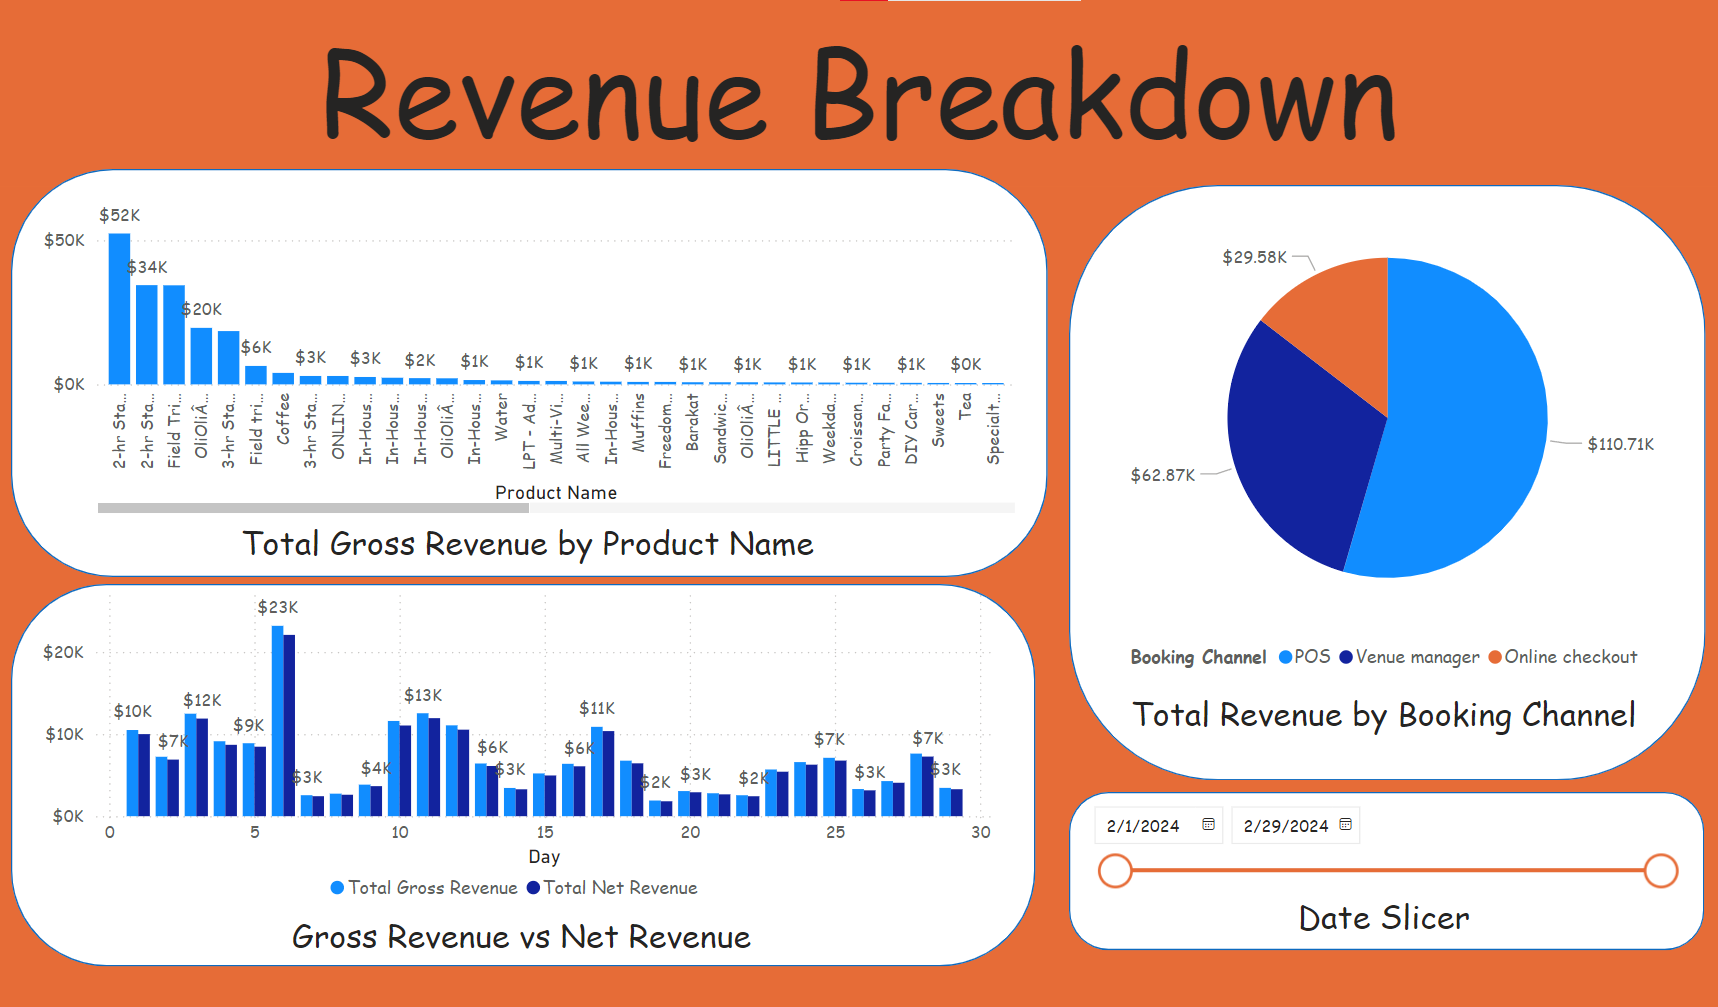

The page's visual inventory and layout, read from the dashboard file:
{"tool":"powerbi","page":{"name":"Revenue Breakdown Dashboard","canvas":[1280,720],"ordinal":1},"visuals":[{"type":"textbox","box":[0,0,1279.3,138.8],"z":0},{"type":"shape","box":[7.9,125.7,772,303.8],"z":0,"group":"g5"},{"type":"shape","box":[795.7,137.6,474.1,443.4],"z":0,"group":"g1"},{"type":"shape","box":[7.9,434.4,762.8,284.6],"z":0,"group":"g7"},{"type":"shape","box":[795.7,589.9,473.1,117.8],"z":0,"group":"g3"},{"type":"group","id":"g1","title":"Group 7","box":[795.7,137.6,474.1,443.4],"z":1000},{"type":"group","id":"g2","title":"Group 2","box":[7.9,125.7,772,303.8],"z":2000},{"type":"textbox","box":[28.3,381.9,728.7,46.9],"z":2000,"group":"g6"},{"type":"textbox","box":[803.8,509.3,452.2,56],"z":2000,"group":"g8"},{"type":"textbox","box":[918.8,660.4,223.1,45.9],"z":2000,"group":"g3"},{"type":"textbox","box":[28.1,674.4,720,43.9],"z":2000,"group":"g9"},{"type":"group","id":"g3","title":"Group 3","box":[795.7,589.9,473.1,117.8],"z":3000},{"type":"group","id":"g4","title":"Group 2","box":[7.9,429.5,762.1,290],"z":4000},{"type":"slicer","fields":{"Values":["Data.Record Date"]},"box":[801.8,590.4,456,79.2],"z":4000,"group":"g3"},{"type":"group","id":"g5","title":"Group 7","box":[7.9,125.7,772,303.8],"z":5000,"group":"g2"},{"type":"group","id":"g6","title":"Group 1","box":[28.3,381.9,728.7,46.9],"z":5000,"group":"g5"},{"type":"group","id":"g7","title":"Group 7","box":[7.9,434.4,762.8,284.6],"z":5000,"group":"g4"},{"type":"group","id":"g8","title":"Group 1","box":[803.8,509.3,452.2,58.3],"z":5000,"group":"g1"},{"type":"group","id":"g9","title":"Group 1","box":[28.1,674.4,720,43.9],"z":5000,"group":"g7"},{"type":"clusteredColumnChart","fields":{"Y":["Data.Total Gross Revenue by Product"],"Category":["Data.Product Name"]},"box":[26.2,137.1,733.9,250.2],"z":6000,"group":"g2"},{"type":"clusteredColumnChart","fields":{"Category":["Data.Record Date.Variation.Date Hierarchy.Day"],"Y":["Data.Total Gross Revenue","Data.Total Net Revenue"]},"box":[25.6,429.5,717.9,250.4],"z":6000,"group":"g4"},{"type":"pieChart","fields":{"Category":["Data.Booking Location"],"Y":["Data.Total Revenue by Channel"]},"box":[798.2,142.5,470,365.7],"z":7000,"group":"g1"}]}

Visuals, with their boxes on the page's 1280x720 design canvas (x1, y1, x2, y2). These are canvas units, not pixel positions in the 1718x1007 screenshot, which may show the page scaled, cropped or inside an application window:
textbox: (0, 0, 1279, 139)
shape: (8, 126, 780, 430)
shape: (796, 138, 1270, 581)
shape: (8, 434, 771, 719)
shape: (796, 590, 1269, 708)
"Group 7" group: (796, 138, 1270, 581)
"Group 2" group: (8, 126, 780, 430)
textbox: (28, 382, 757, 429)
textbox: (804, 509, 1256, 565)
textbox: (919, 660, 1142, 706)
textbox: (28, 674, 748, 718)
"Group 3" group: (796, 590, 1269, 708)
"Group 2" group: (8, 430, 770, 720)
slicer - Data.Record Date: (802, 590, 1258, 670)
"Group 7" group: (8, 126, 780, 430)
"Group 1" group: (28, 382, 757, 429)
"Group 7" group: (8, 434, 771, 719)
"Group 1" group: (804, 509, 1256, 568)
"Group 1" group: (28, 674, 748, 718)
clusteredColumnChart - Data.Total Gross Revenue by Product x Data.Product Name: (26, 137, 760, 387)
clusteredColumnChart - Data.Record Date.Variation.Date Hierarchy.Day x Data.Total Gross Revenue: (26, 430, 744, 680)
pieChart - Data.Booking Location x Data.Total Revenue by Channel: (798, 142, 1268, 508)
